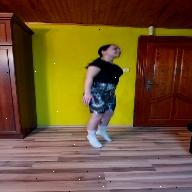high_jumps: (76, 36, 131, 160)
